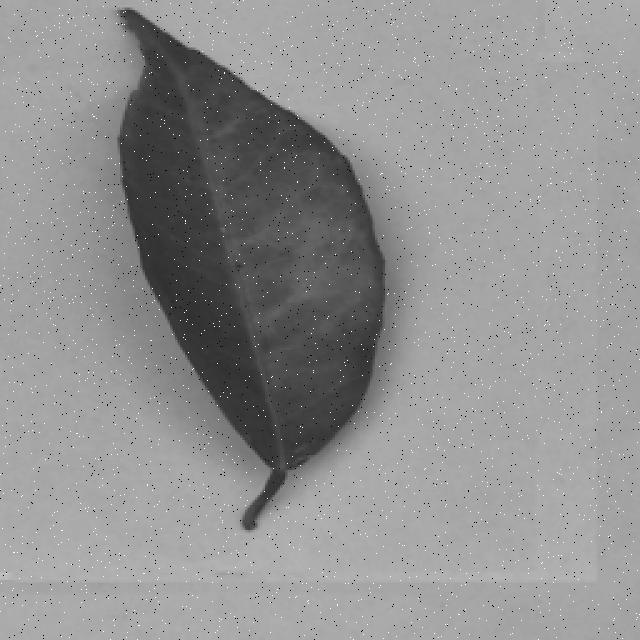greening: (96, 2, 382, 550)
